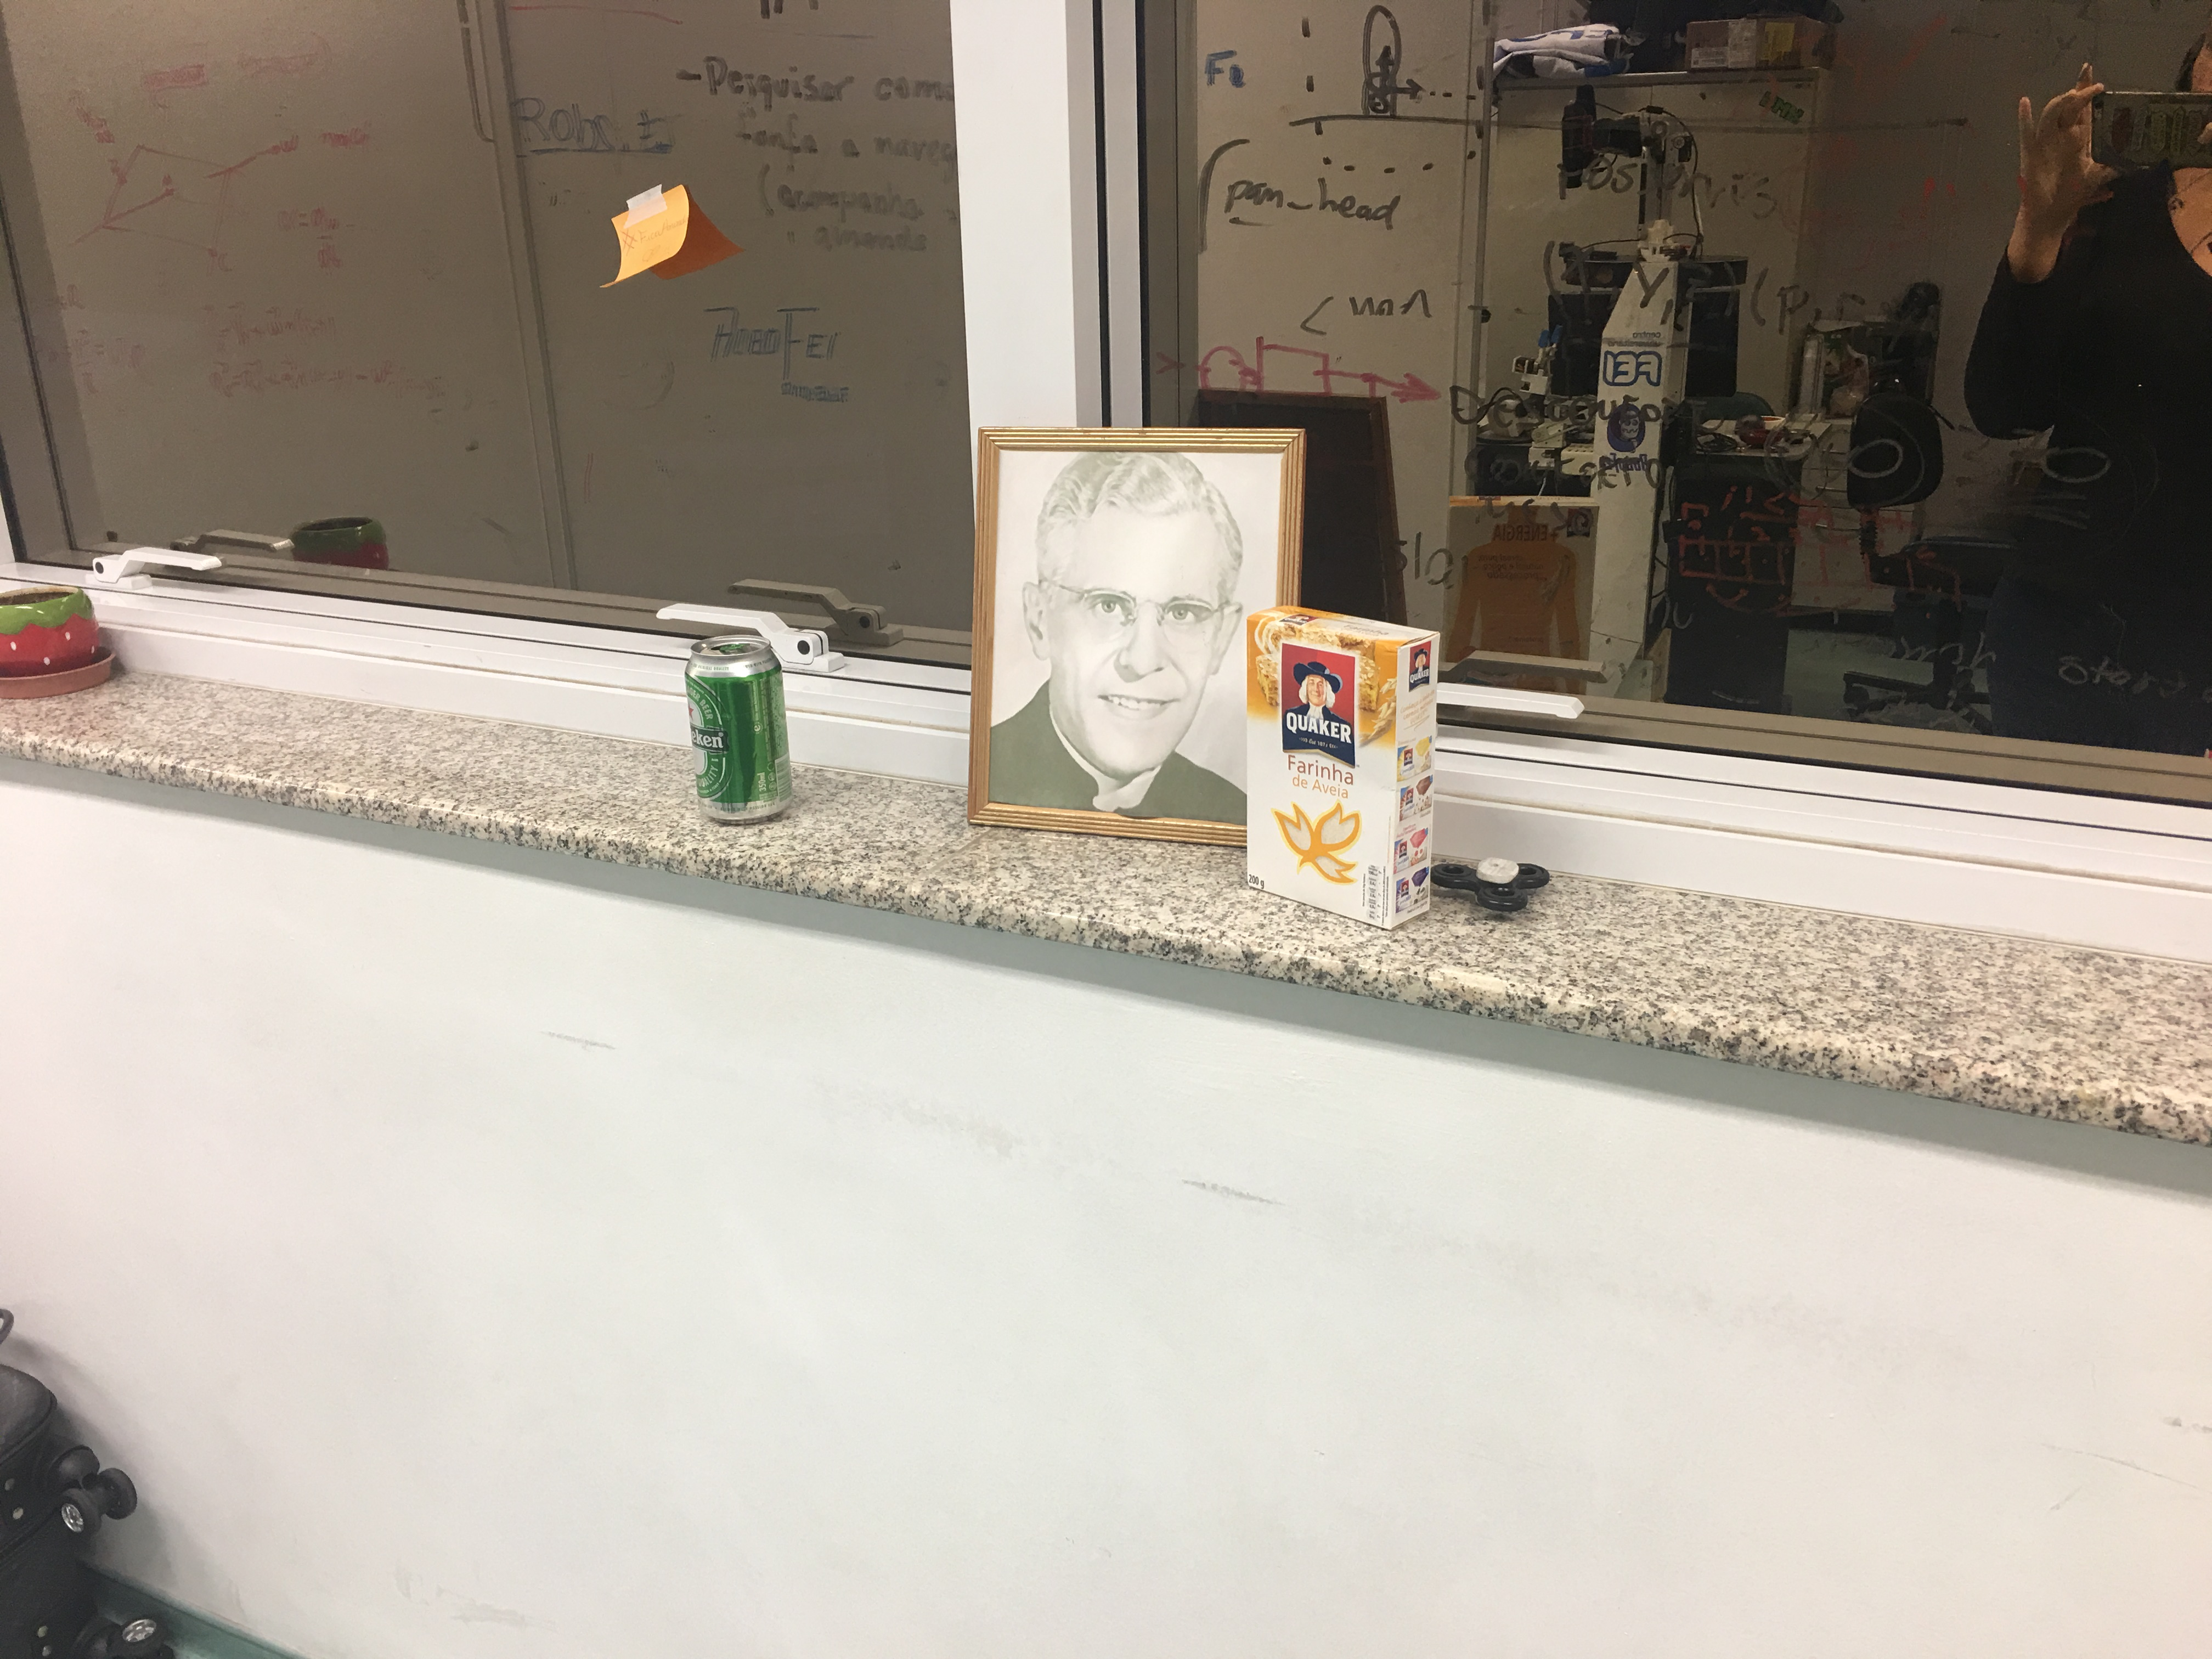cereal: (1240, 598, 1446, 925)
heineken: (678, 629, 805, 838)
